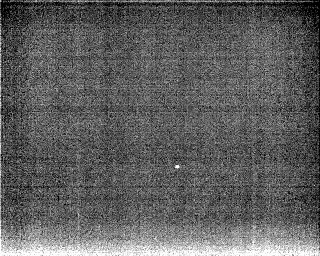AIRPLANE: (173, 162, 182, 171)
